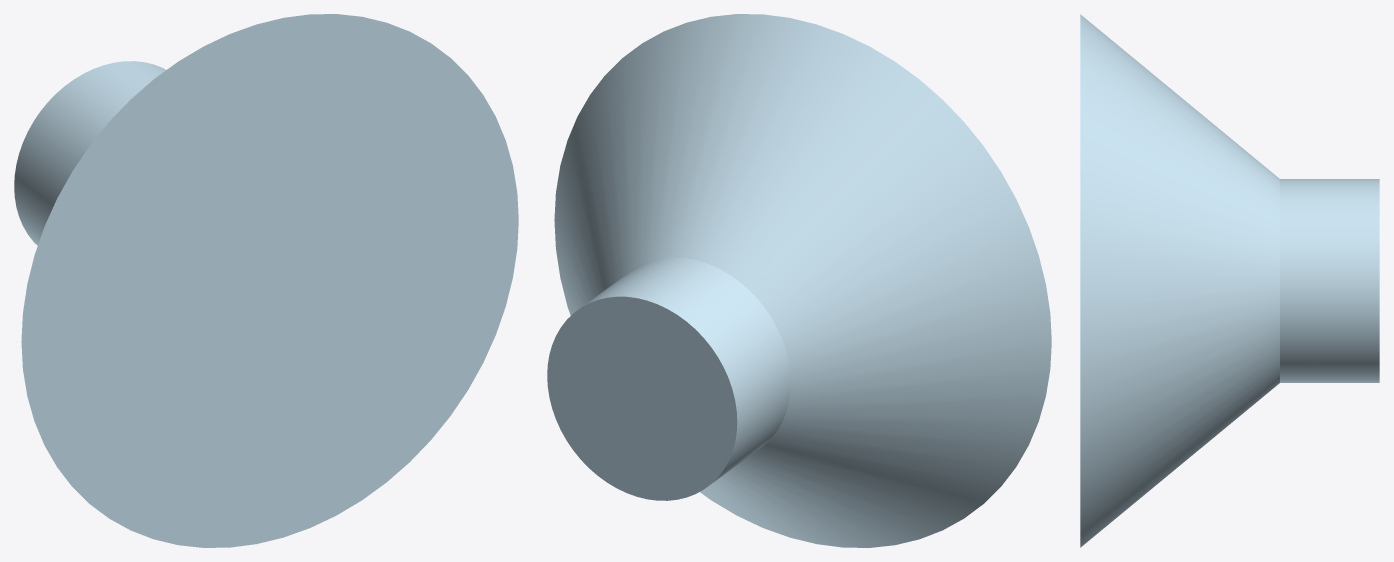
The model's file is frustum_CAD.gltf.
The picture shows the model from 3 angles, left to right: view 1: azimuth 30°, elevation 25°; view 2: azimuth 150°, elevation 25°; view 3: azimuth 270°, elevation 25°; orthographic projection. The views are drawn at different scales.
Visible parts, largest first — view 1: Part 1; view 2: Part 1; view 3: Part 1.
Part boxes in pixels (x1,y1,x2,y2): Part 1: (14,14,518,547); Part 1: (547,14,1051,547); Part 1: (1080,14,1379,547).
Bounding box in the file's own units: 0.034 × 0.034 × 0.0191.
